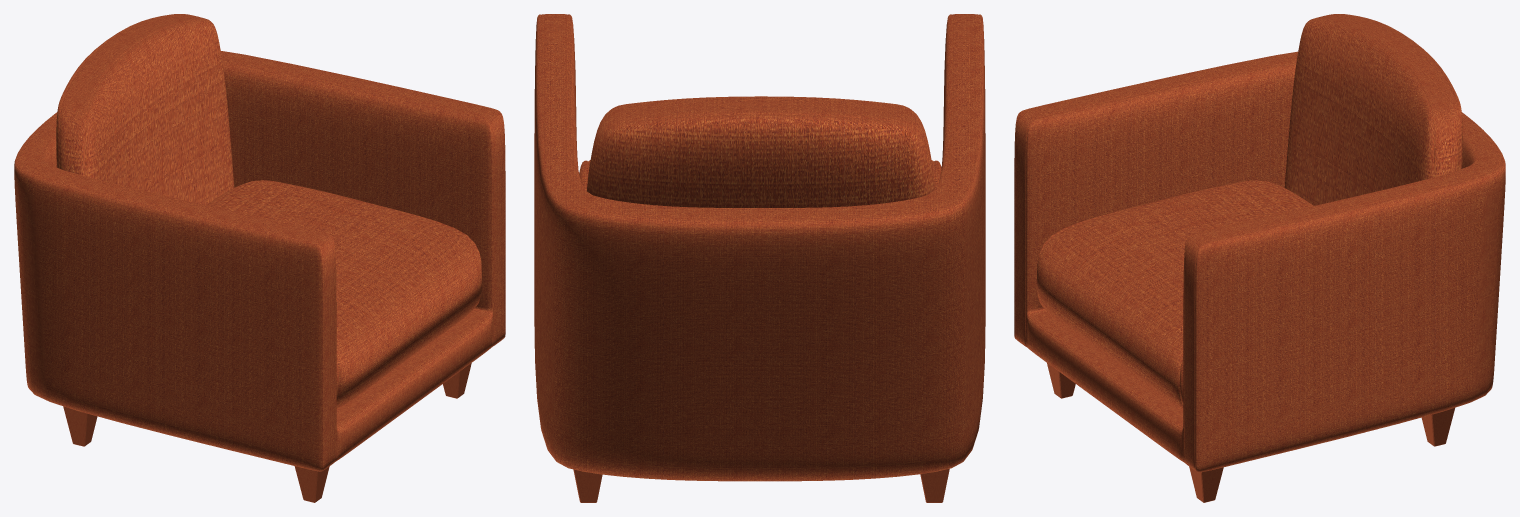
3 renders of one model, left to right at view 1: azimuth 30°, elevation 25°; view 2: azimuth 150°, elevation 25°; view 3: azimuth 270°, elevation 25°, orthographic. The views are drawn at different scales.
Parts seen in each view (by area): view 1: Open3DModel_Armchair; view 2: Open3DModel_Armchair; view 3: Open3DModel_Armchair.
Part boxes in pixels (box(x1,y1,x2,y2)): Open3DModel_Armchair: box(14, 14, 505, 502); Open3DModel_Armchair: box(534, 14, 985, 502); Open3DModel_Armchair: box(1014, 14, 1505, 502).
Bounding box in the file's own units: 915 × 715 × 932.
